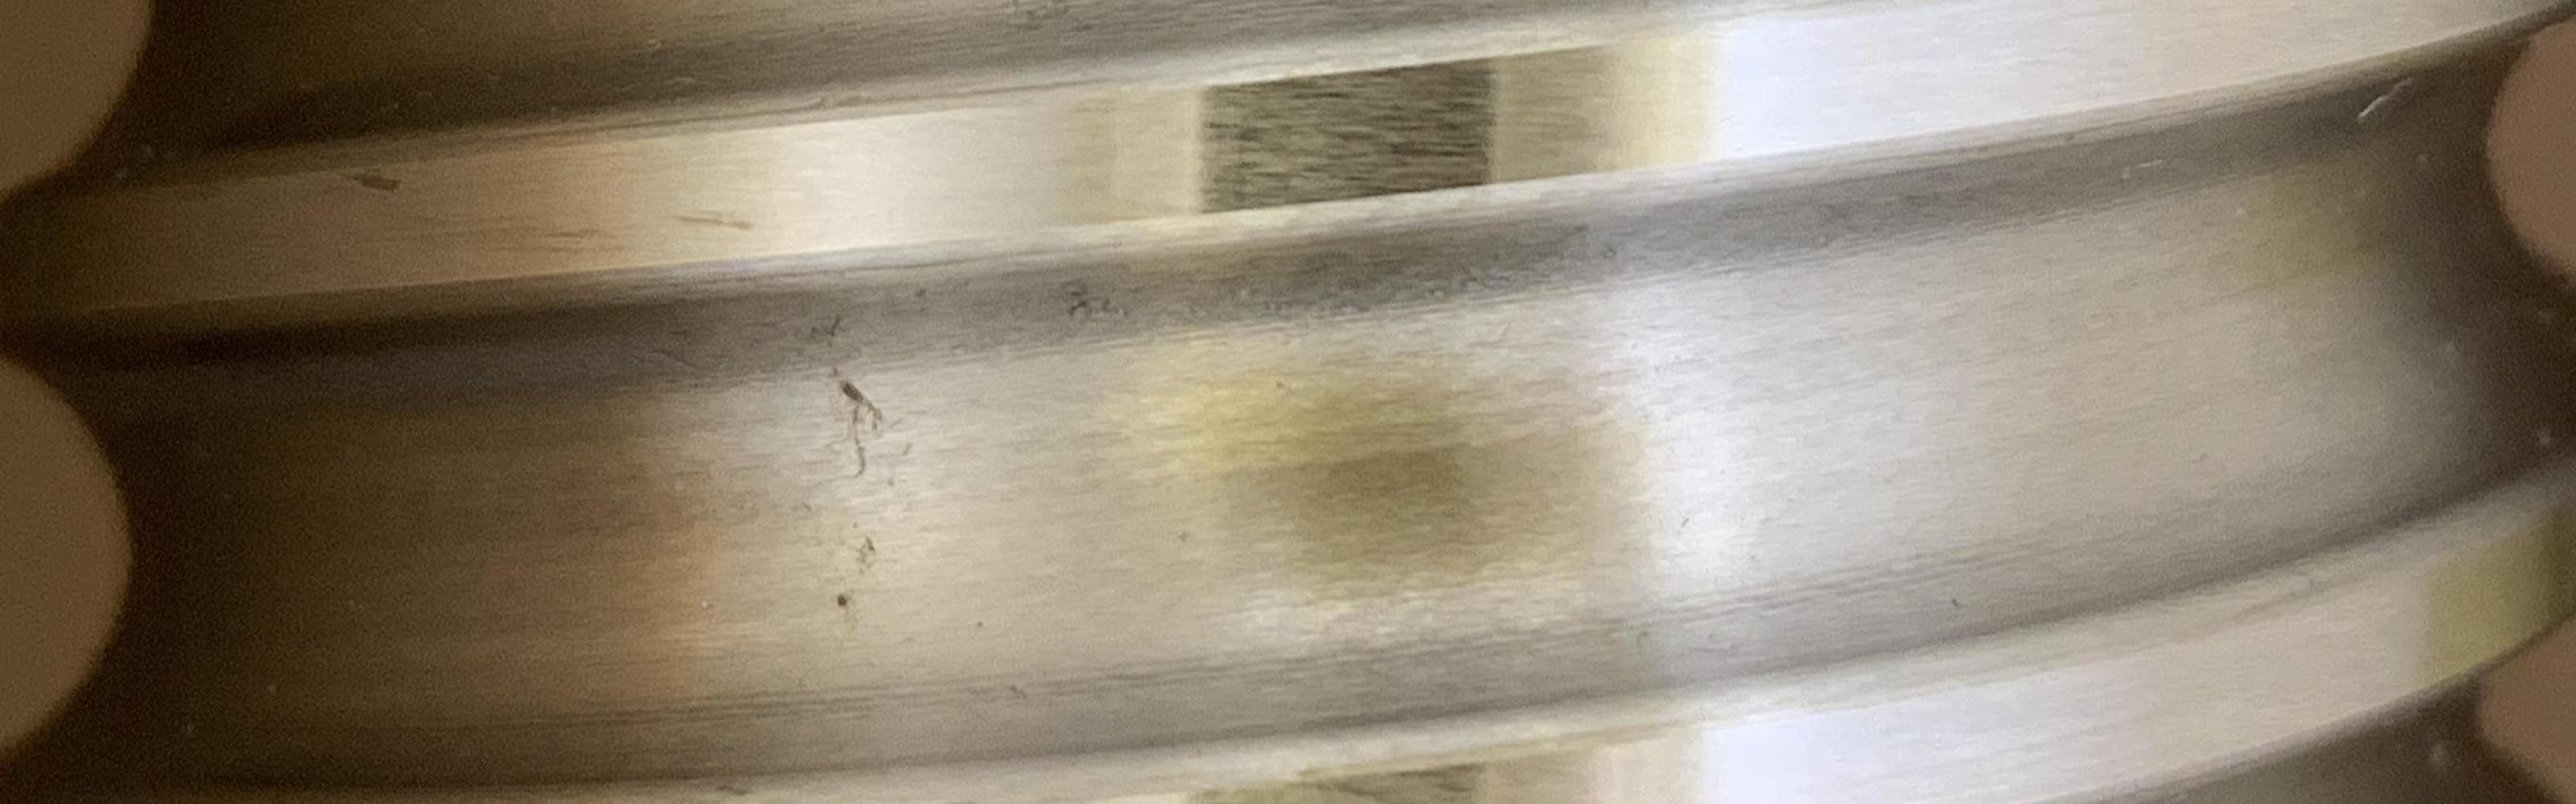pitting: (1066, 291, 1099, 316)
